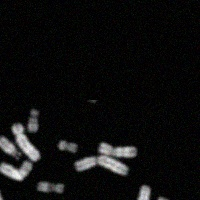chromosome: (12, 123, 40, 160), (74, 155, 127, 174), (0, 161, 33, 180), (99, 141, 137, 156), (0, 136, 21, 160), (38, 182, 64, 193), (27, 109, 38, 132), (58, 141, 77, 153), (135, 185, 150, 200), (0, 186, 8, 200), (141, 197, 168, 200)
